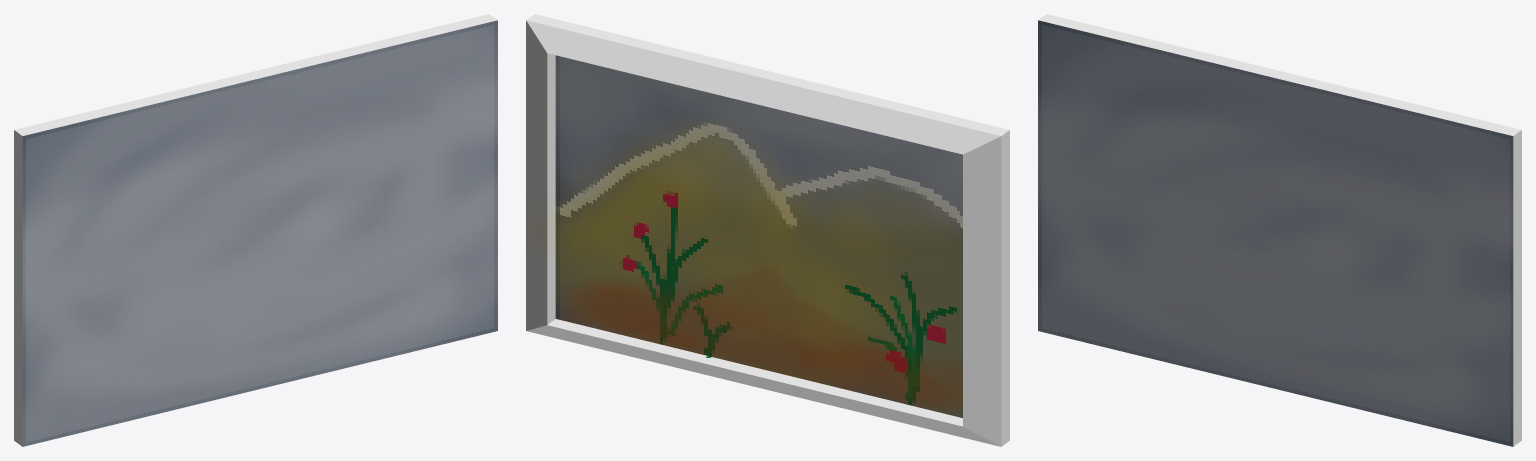
Rendered from Cuadro.glb.
3 renders of one model, left to right at view 1: azimuth 30°, elevation 25°; view 2: azimuth 150°, elevation 25°; view 3: azimuth 330°, elevation 25°, orthographic.
Parts seen in each view (by area): view 1: mesh; view 2: mesh; view 3: mesh.
Boxes of the visible parts, x1,y1,x2,y2 form: mesh: (14,14,497,446); mesh: (526,14,1009,446); mesh: (1038,14,1521,446).
Size of the model in its own units: 2 by 1.25 by 0.125.
Materials: 1 (1 with a texture image).
